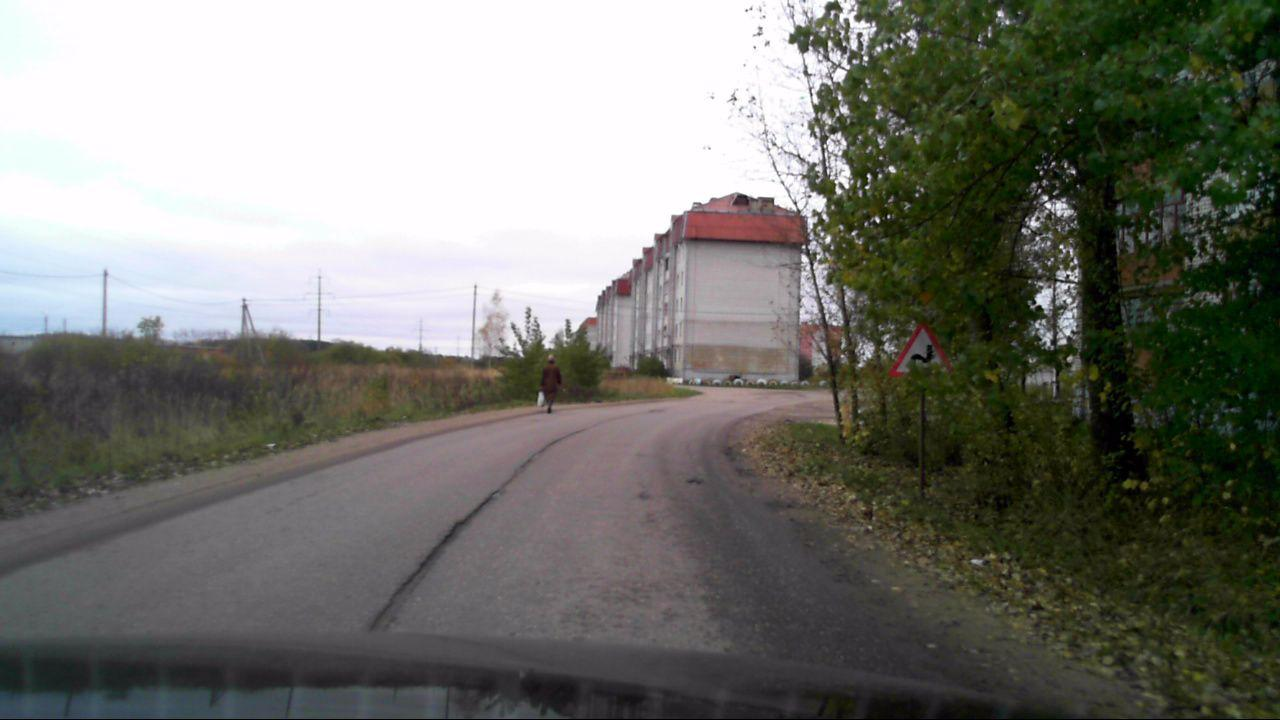1_12_1: (890, 322, 952, 379)
